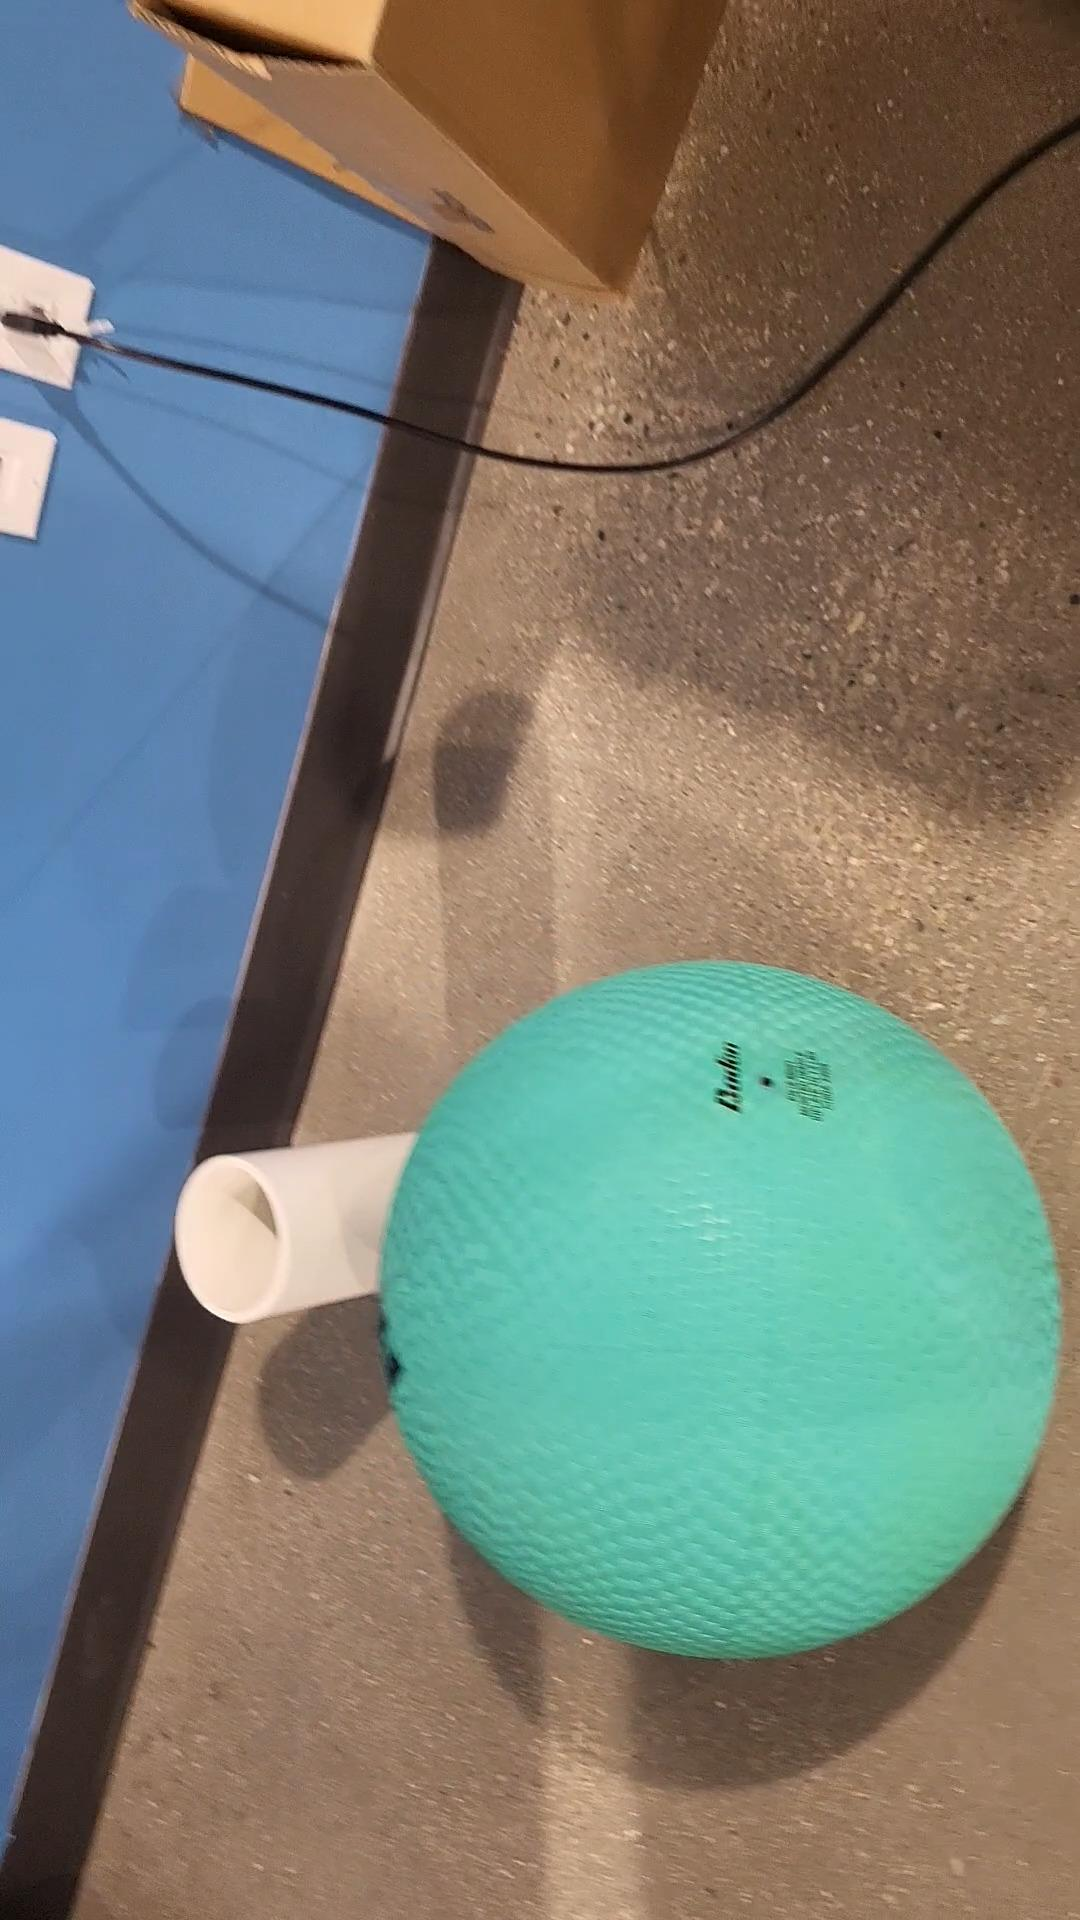algae: (385, 968, 1060, 1660)
coral: (173, 1130, 419, 1323)
